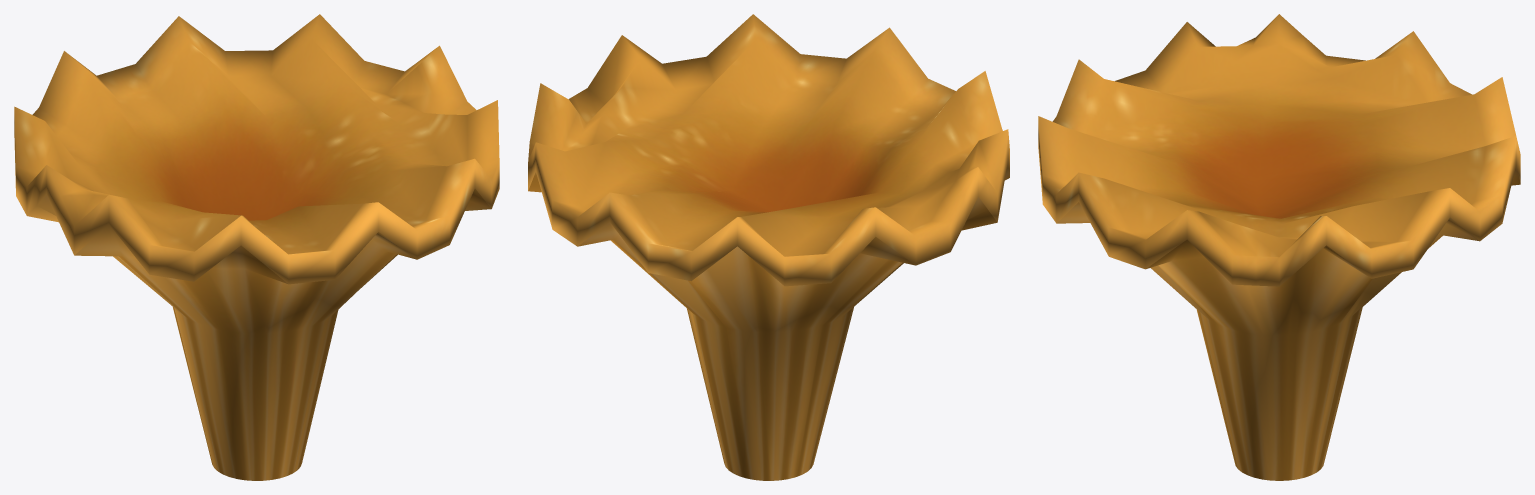
File: Girolle.fbx
The picture shows the model from 3 angles, left to right: view 1: azimuth 30°, elevation 25°; view 2: azimuth 150°, elevation 25°; view 3: azimuth 270°, elevation 25°; orthographic projection.
Visible parts, largest first — view 1: Girolle; view 2: Girolle; view 3: Girolle.
Part boxes in pixels (x1,y1,x2,y2): Girolle: [14, 14, 499, 480]; Girolle: [528, 14, 1009, 480]; Girolle: [1038, 14, 1520, 480].
Bounding box in the file's own units: 83.2 × 65.83 × 83.17.
